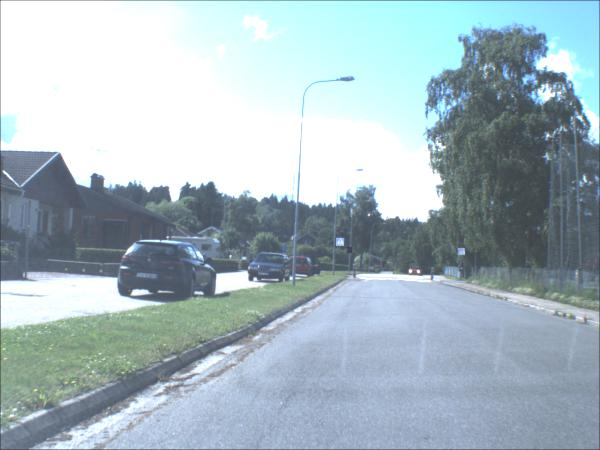NO_PARKING: (347, 248, 353, 255)
PEDESTRIAN_CROSSING: (336, 239, 345, 248), (458, 250, 466, 258)
